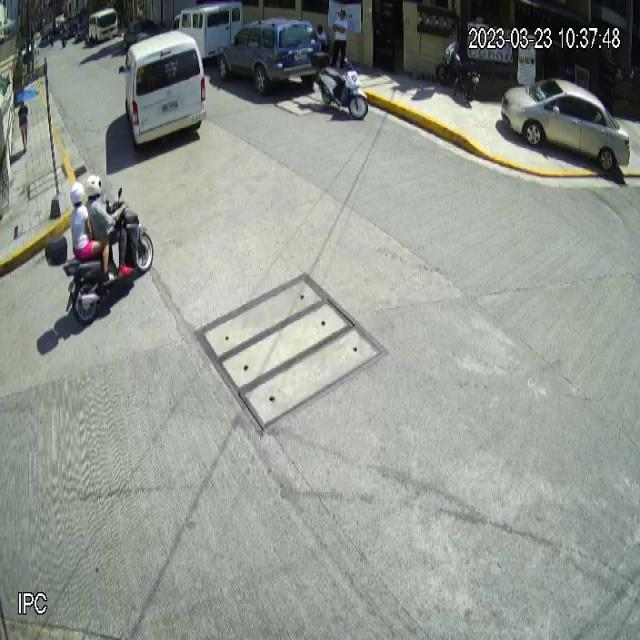Car: (501, 77, 631, 172), (217, 17, 323, 89)
Motorcycle: (45, 188, 155, 326), (310, 48, 368, 122)
Van: (119, 29, 206, 149)
